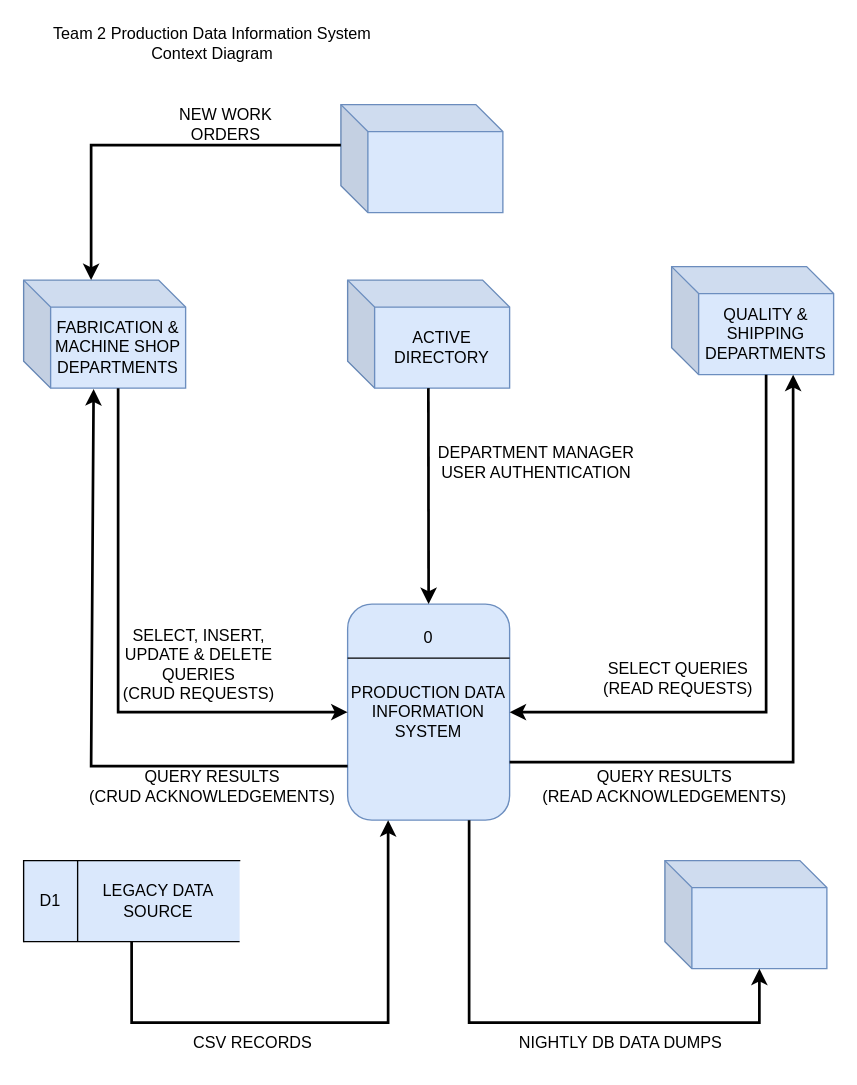
Image size: 857x1085. Some labels were removed from this diagram. Each missing label, with the centre of its shape:
"BACKUP ARCHIVE" goes at [745,914].
"KICZAN FRONT OFFICE" goes at [421,158].
